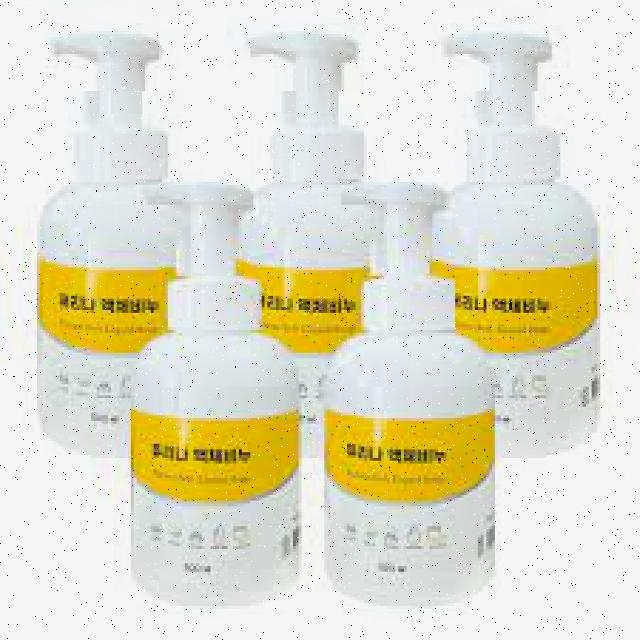liquid soap: (424, 26, 608, 460), (130, 168, 308, 608), (323, 175, 503, 606), (26, 24, 200, 464), (232, 26, 389, 455)
